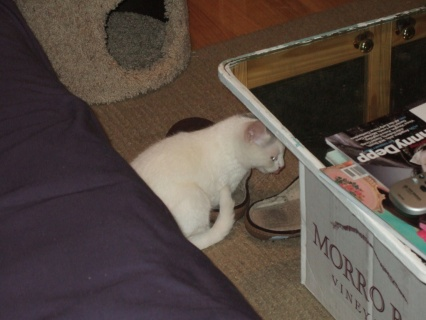Cat: (128, 109, 288, 250)
